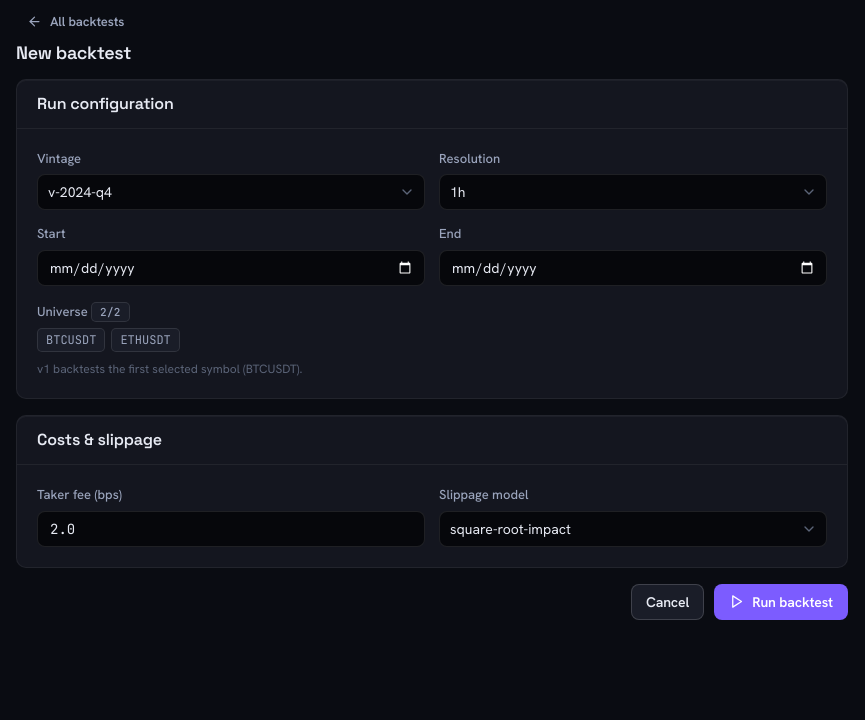
Scenario: NewBacktest › surfaces a server 400 inline and does not navigate
Expected: the dropdown labelled "Vintage" shows "v-2024-q4", [37,174,425,210]
Type "2021-01-01" into the date field labelled "Start" at [231, 268], box [48,251,414,285]
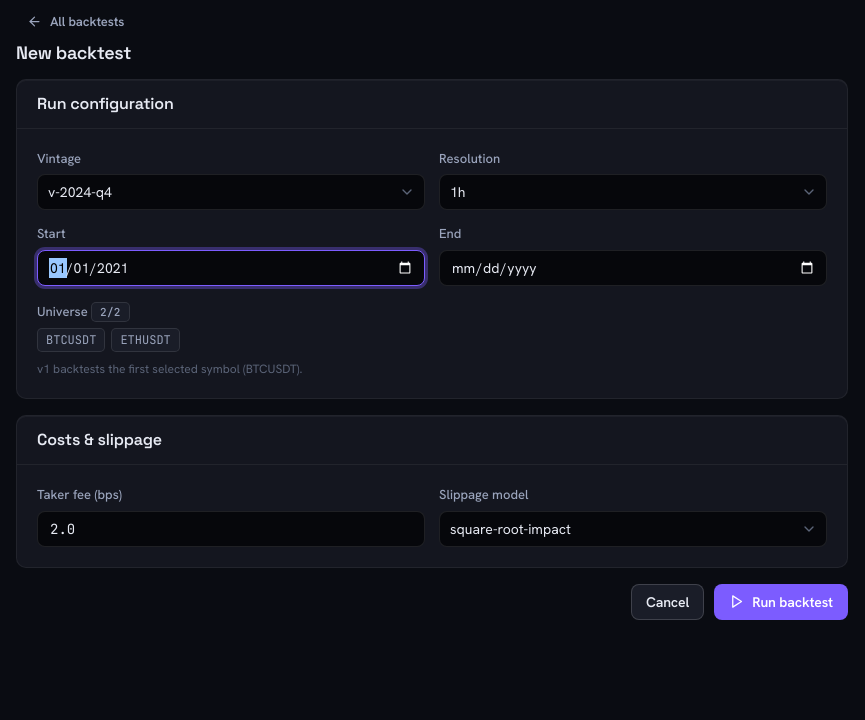
Type "2024-12-31" into the date field labelled "End" at [633, 268], box [450,251,816,285]
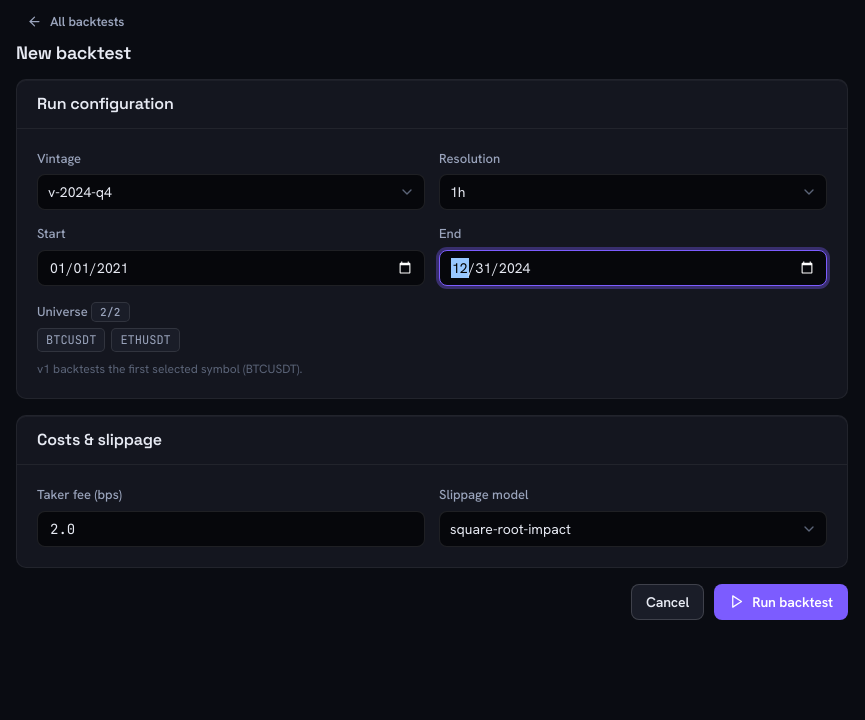
Click the button "Run backtest" at [781, 602], box [714,584,848,620]
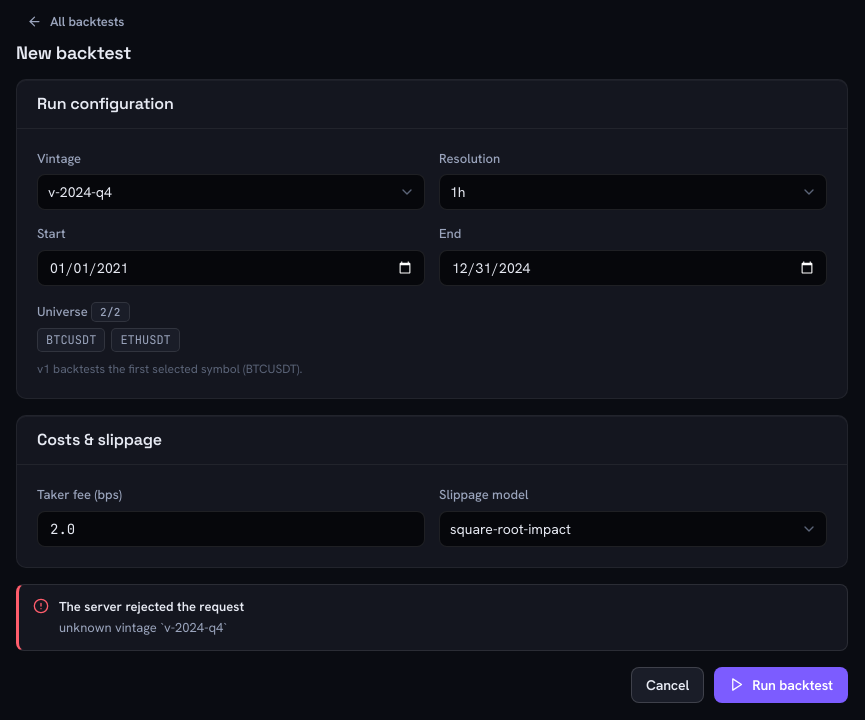
Expected: the text "The server rejected the request unknown vintage `v-2024-q4`" is shown, [59,597,244,638]
